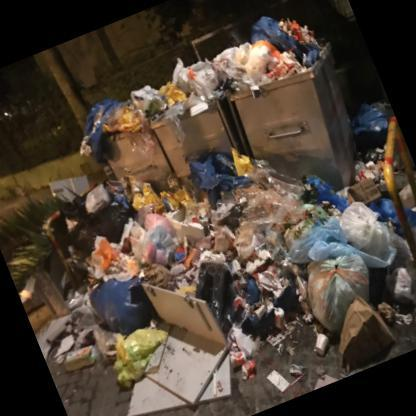Garbage: (262, 122, 415, 356), (176, 141, 310, 336), (49, 165, 209, 307), (167, 6, 324, 115), (68, 68, 209, 152), (86, 300, 178, 390), (187, 252, 254, 328), (228, 343, 262, 386), (356, 96, 394, 134)
